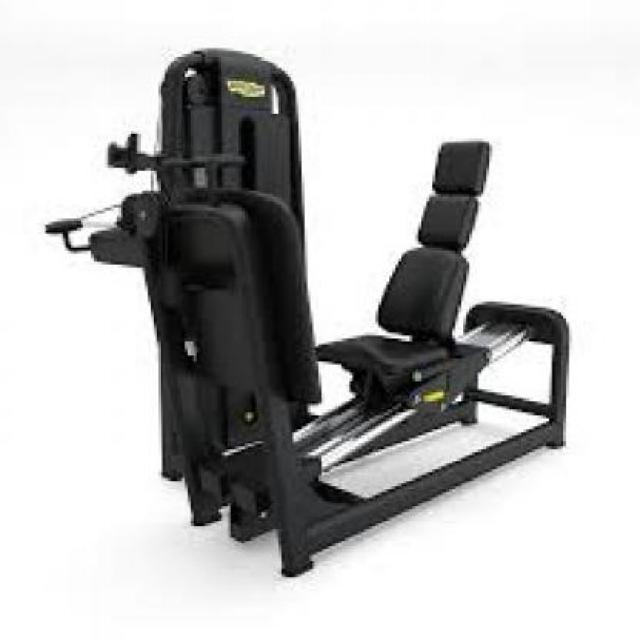leg press: (46, 37, 589, 595)
